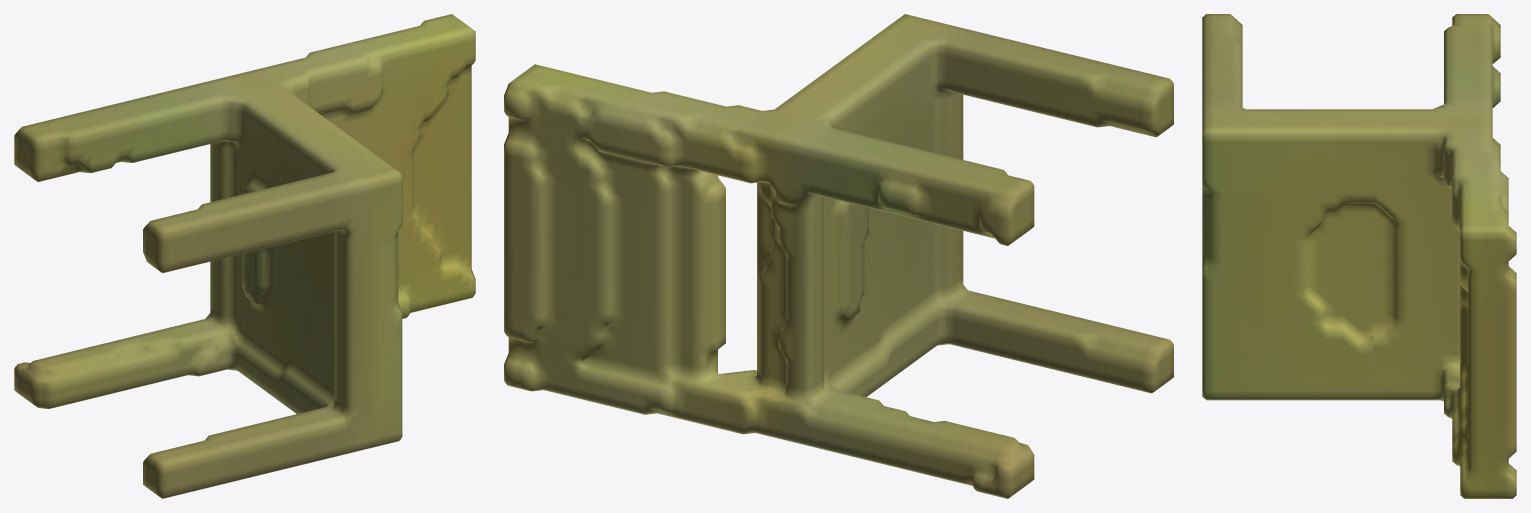
Rendered from A wooden chair with pale green polishing on it..glb.
The picture shows the model from 3 angles, left to right: view 1: azimuth 30°, elevation 25°; view 2: azimuth 150°, elevation 25°; view 3: azimuth 270°, elevation 25°; orthographic projection. The views are drawn at different scales.
Parts seen in each view (by area): view 1: A wooden chair with pale green polishing on it.; view 2: A wooden chair with pale green polishing on it.; view 3: A wooden chair with pale green polishing on it..
Boxes of the visible parts, <box> form: A wooden chair with pale green polishing on it.: <box>14,14,475,498</box>; A wooden chair with pale green polishing on it.: <box>504,14,1173,498</box>; A wooden chair with pale green polishing on it.: <box>1202,14,1516,498</box>.
Size of the model in its own units: 64 by 37 by 39.
